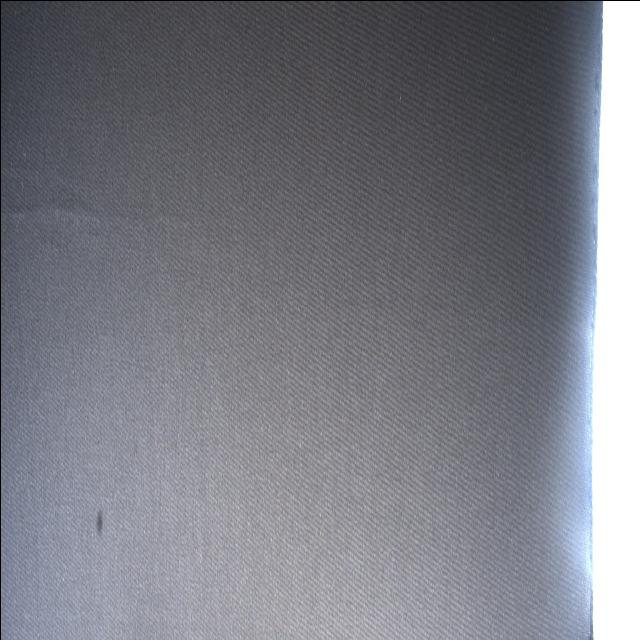crease: (5, 197, 182, 244), (14, 283, 35, 463), (0, 161, 39, 189)
